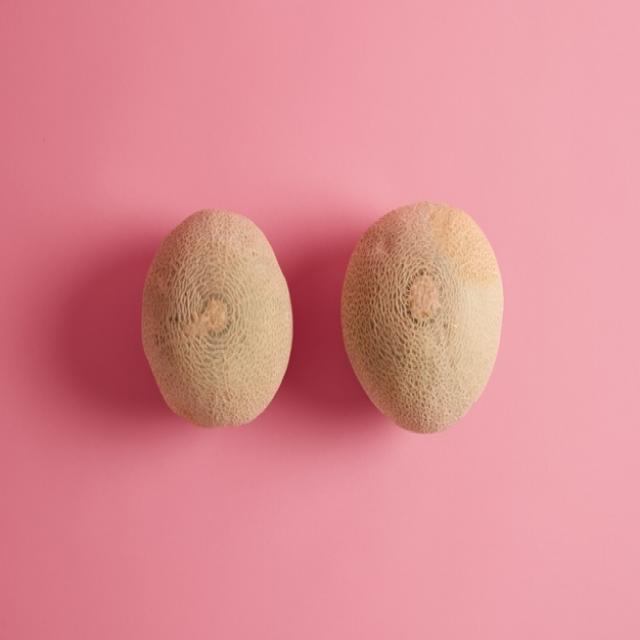melon: (339, 202, 504, 436), (143, 207, 293, 430)
